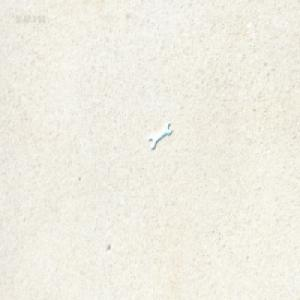Wrench: (148, 119, 170, 147)
